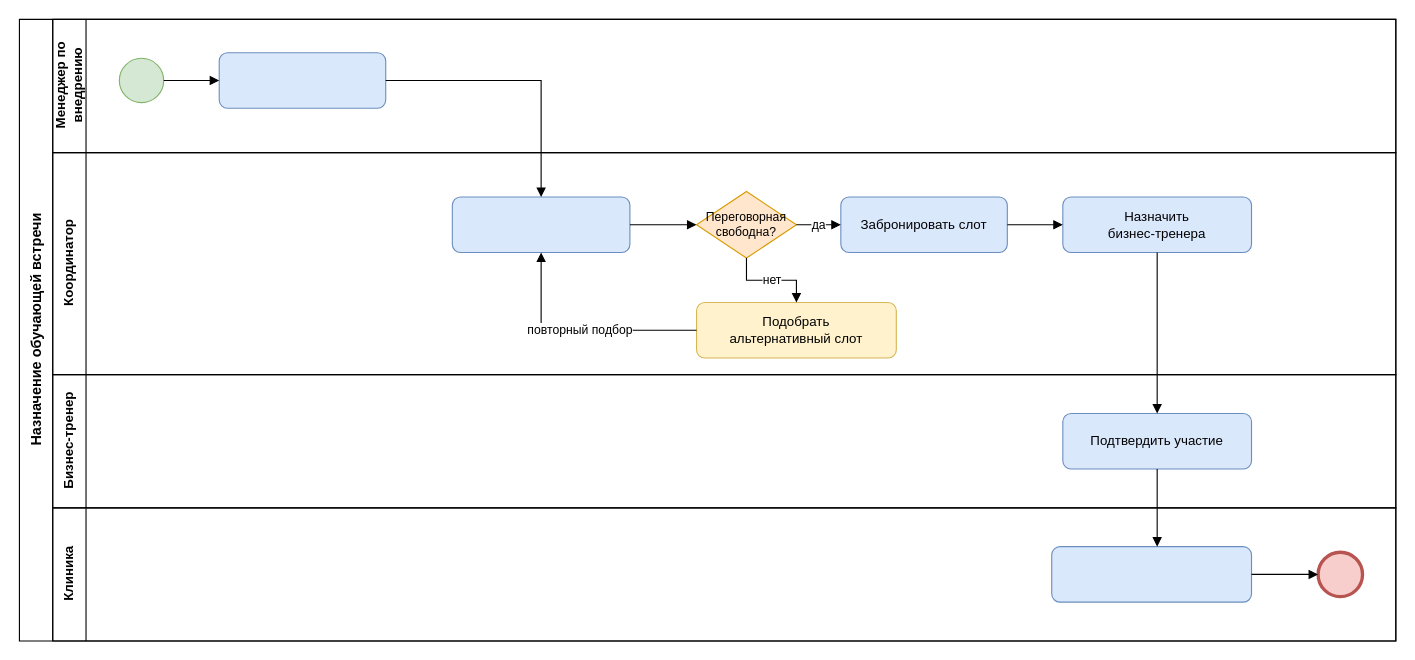
This 1415x660 diagram has some shape labels left out. The shapes that lost their labels are listed below. From the top down, each one's centre as x and y in pixels, then its label:
[141,80]: Заявка на обучение
[302,80]: Сформировать заявку на обучение
[540,224]: Проверить доступность переговорной
[1151,574]: Согласовать и подтвердить время
[1340,574]: Встреча назначена
